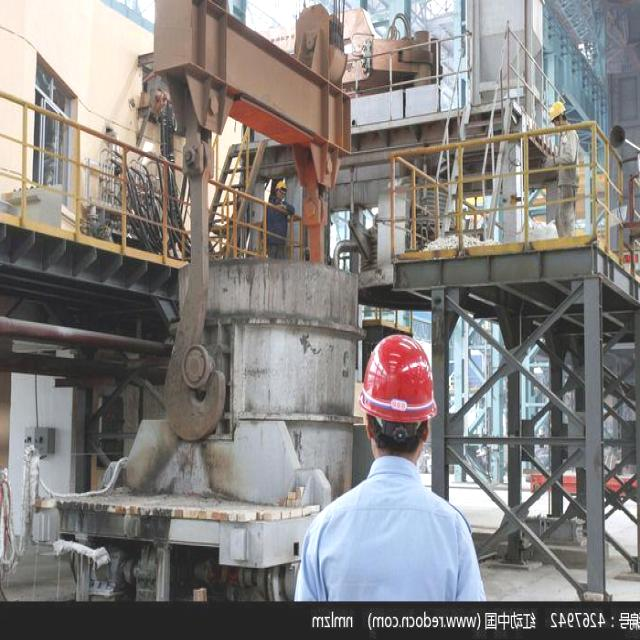head_helmet: (350, 328, 454, 418), (545, 94, 565, 124)
person: (294, 322, 486, 600), (548, 97, 585, 255)
